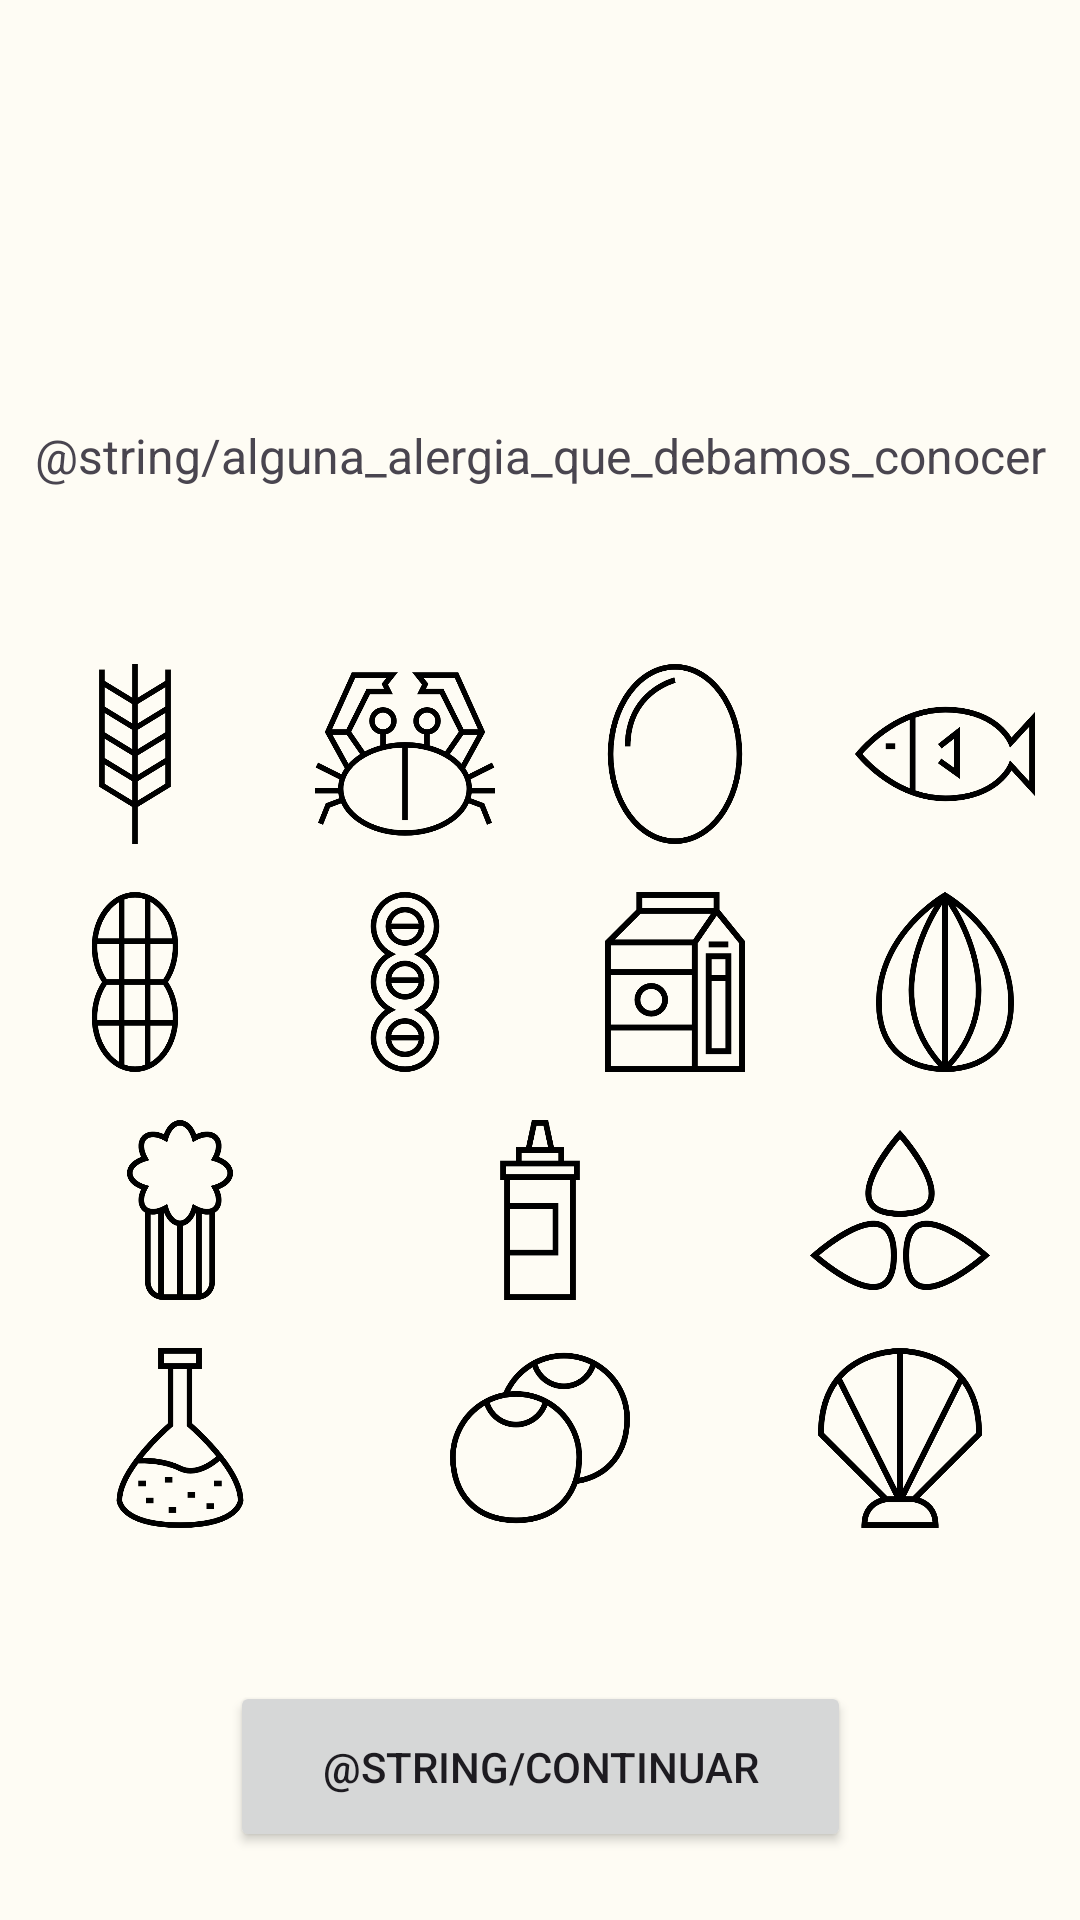

Named icons in this screenshot (1080w x 1920h) and their centers, (x=x, y=y):
apio: (x=180, y=1210)
cacahuete: (x=135, y=982)
frutos: (x=945, y=982)
huevo: (x=675, y=754)
lacteos: (x=675, y=982)
marisco: (x=405, y=754)
moluscos: (x=900, y=1438)
mostaza: (x=540, y=1210)
pescado: (x=945, y=754)
sesamo: (x=900, y=1210)
sulfitos: (x=180, y=1438)
weat: (x=135, y=754)
